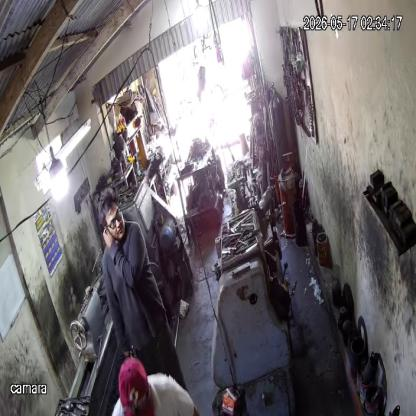lentes: (104, 207, 124, 231)
